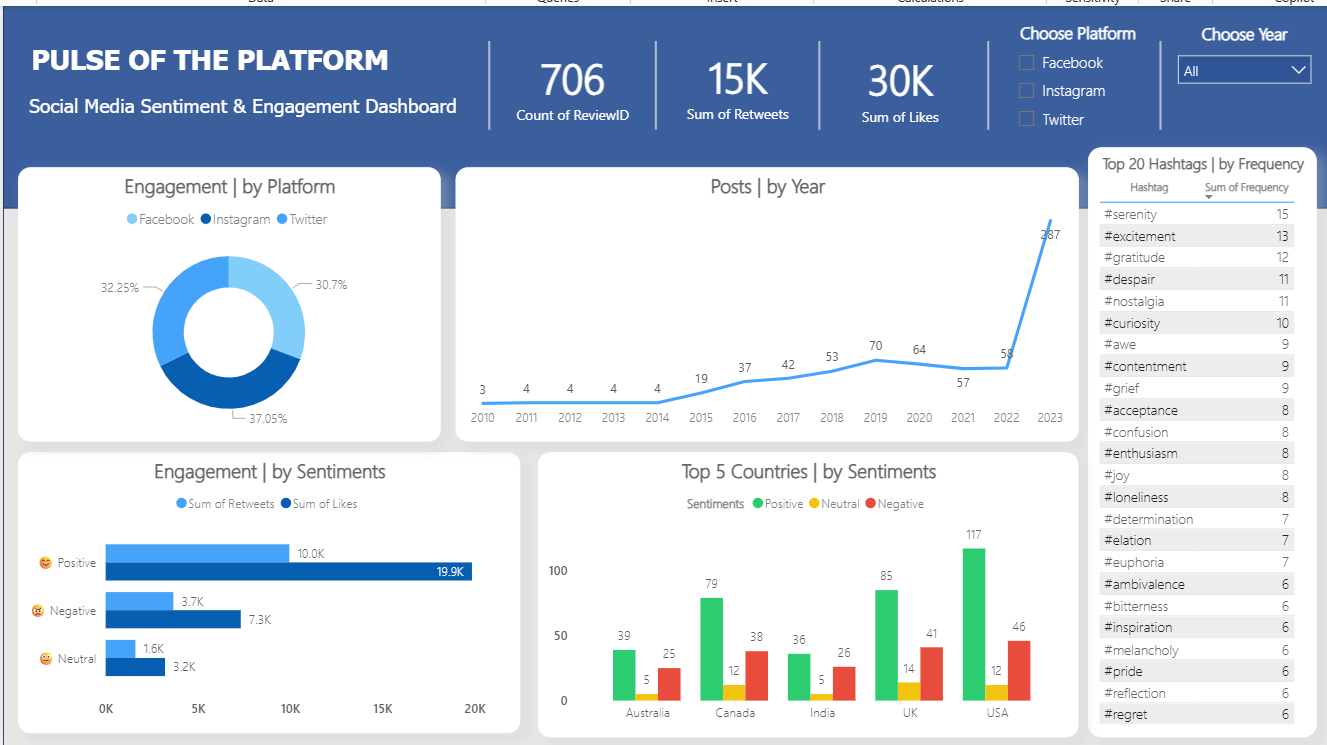

This screenshot's page, from the dashboard's own definition file:
{"tool":"powerbi","page":{"name":"Dashboard","canvas":[1280,720],"ordinal":0},"visuals":[{"type":"slicer","title":"Choose Year","fields":{"Values":["sentiment analysis worksheet.Year"]},"box":[1126.8,15.7,141.2,120.6],"z":0},{"type":"clusteredBarChart","title":"Engagement | by Sentiments","fields":{"Y":["Sum(sentiment analysis worksheet.Retweets)","Sum(sentiment analysis worksheet.Likes)"],"Category":["sentiment analysis worksheet.Emoji Sentiments"]},"box":[14.3,430.5,484.6,270.8],"z":1000},{"type":"lineChart","title":"Posts | by Year","fields":{"Category":["sentiment analysis worksheet.Date.Variation.Date Hierarchy.Year"],"Y":["CountNonNull(sentiment analysis worksheet.ReviewID)"]},"box":[436.2,155.4,601.5,265.1],"z":2000},{"type":"donutChart","title":"Engagement | by Platform","fields":{"Y":["Sum(sentiment analysis worksheet.Engagement)"],"Series":["sentiment analysis worksheet.Platform"]},"box":[14.3,155.4,407.7,265.1],"z":3000},{"type":"slicer","title":"Choose Platform","fields":{"Values":["sentiment analysis worksheet.Platform"]},"box":[967.6,14.5,139.9,118.2],"z":4000},{"type":"tableEx","title":"Top 20 Hashtags | by Frequency","fields":{"Values":["Hashtag Count.HashtagSingle","Sum(Hashtag Count.Count)"]},"box":[1047.2,136.3,220.8,569.4],"z":5000},{"type":"shape","box":[1070.5,34.2,94.1,85.5],"z":6000},{"type":"textbox","box":[14.3,12.8,439,124],"z":7000},{"type":"card","title":"Choose Platform","fields":{"Values":["CountNonNull(sentiment analysis worksheet.ReviewID)"]},"box":[480.2,15.7,139.9,124.3],"z":8000},{"type":"card","title":"Choose Platform","fields":{"Values":["Sum(sentiment analysis worksheet.Retweets)"]},"box":[639.4,14.5,139.9,124.3],"z":9000},{"type":"card","title":"Choose Platform","fields":{"Values":["Sum(sentiment analysis worksheet.Likes)"]},"box":[796.3,16.9,139.9,124.3],"z":10000},{"type":"shape","box":[933.6,34.2,34.2,85.5],"z":11000},{"type":"shape","box":[779.7,34.2,17.1,85.5],"z":12000},{"type":"shape","box":[620,34.2,20,85.5],"z":13000},{"type":"shape","box":[421.9,34.2,94.1,85.5],"z":14000},{"type":"clusteredColumnChart","title":"Top 5 Countries | by Sentiments","fields":{"Category":["sentiment analysis worksheet.Country","sentiment analysis worksheet.Sentiments"],"Y":["CountNonNull(sentiment analysis worksheet.Sentiments)"],"Series":["sentiment analysis worksheet.Sentiments"]},"box":[516,430.5,521.7,275.1],"z":15000}]}

Visuals, with their boxes on the page's 1280x720 design canvas (x1, y1, x2, y2). These are canvas units, not pixel positions in the 1327x745 screenshot, which may show the page scaled, cropped or inside an application window:
"Choose Year" slicer: bbox=(1127, 16, 1268, 136)
"Engagement | by Sentiments" clusteredBarChart: bbox=(14, 430, 499, 701)
"Posts | by Year" lineChart: bbox=(436, 155, 1038, 420)
"Engagement | by Platform" donutChart: bbox=(14, 155, 422, 420)
"Choose Platform" slicer: bbox=(968, 14, 1108, 133)
"Top 20 Hashtags | by Frequency" tableEx: bbox=(1047, 136, 1268, 706)
shape: bbox=(1070, 34, 1165, 120)
textbox: bbox=(14, 13, 453, 137)
"Choose Platform" card: bbox=(480, 16, 620, 140)
"Choose Platform" card: bbox=(639, 14, 779, 139)
"Choose Platform" card: bbox=(796, 17, 936, 141)
shape: bbox=(934, 34, 968, 120)
shape: bbox=(780, 34, 797, 120)
shape: bbox=(620, 34, 640, 120)
shape: bbox=(422, 34, 516, 120)
"Top 5 Countries | by Sentiments" clusteredColumnChart: bbox=(516, 430, 1038, 706)
